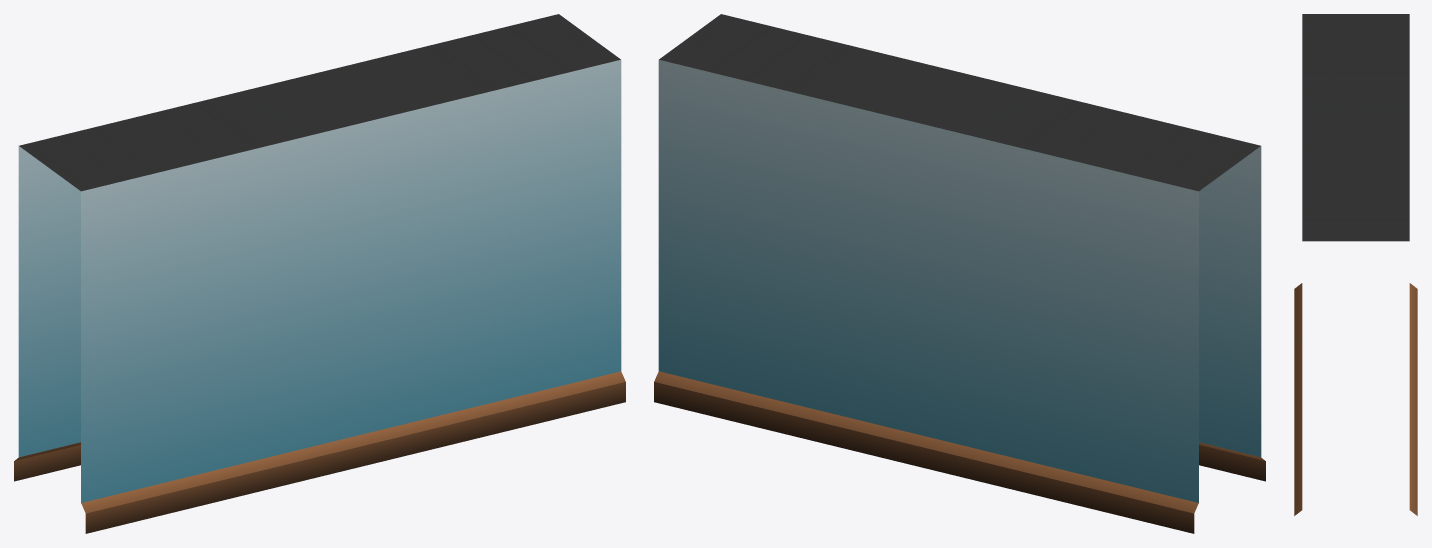
The model's file is wall_blue.fbx.
The picture shows the model from 3 angles, left to right: view 1: azimuth 30°, elevation 25°; view 2: azimuth 150°, elevation 25°; view 3: azimuth 270°, elevation 25°; orthographic projection. The views are drawn at different scales.
Visible parts, largest first — view 1: SM_wall_blue; view 2: SM_wall_blue; view 3: SM_wall_blue.
Part boxes in pixels (box(x1,y1,x2,y2)): SM_wall_blue: box(14, 14, 625, 533); SM_wall_blue: box(654, 14, 1265, 533); SM_wall_blue: box(1294, 14, 1417, 515).
Size of the model in its own units: 500 by 300 by 115.
